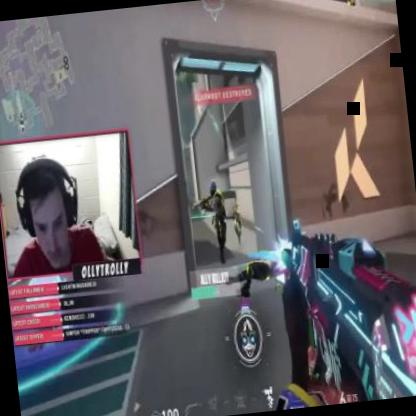enemy: (206, 176, 228, 264), (228, 195, 243, 241)
enemy_head: (208, 179, 218, 198), (232, 197, 238, 207)
